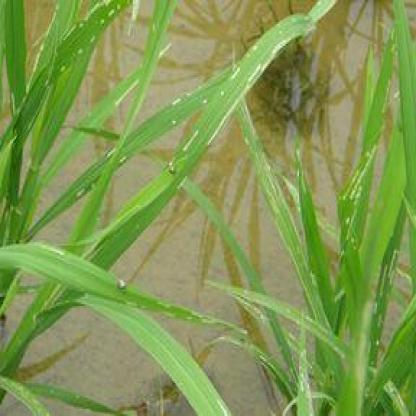rice-bug: (166, 159, 178, 175), (116, 278, 125, 292)
